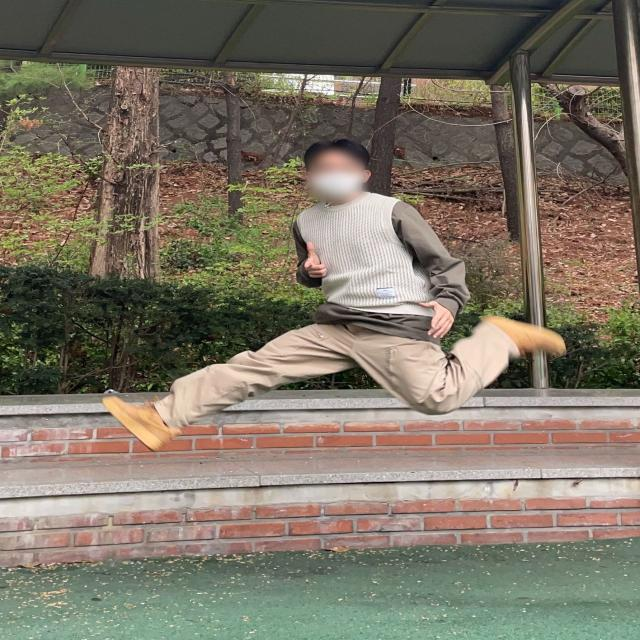cottonpants: (151, 309, 523, 431)
sweater: (298, 187, 477, 334)
